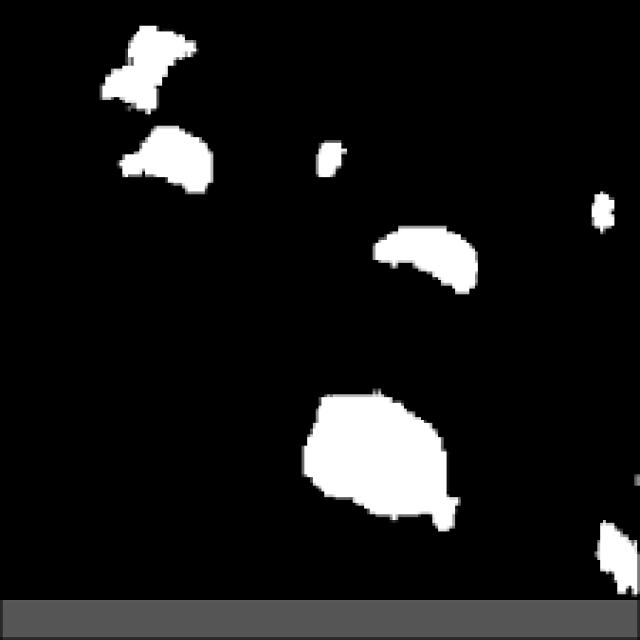cell: (308, 392, 450, 528), (103, 23, 193, 113), (374, 225, 473, 292), (119, 124, 208, 188), (598, 528, 638, 590), (315, 142, 342, 178), (585, 199, 613, 230)
